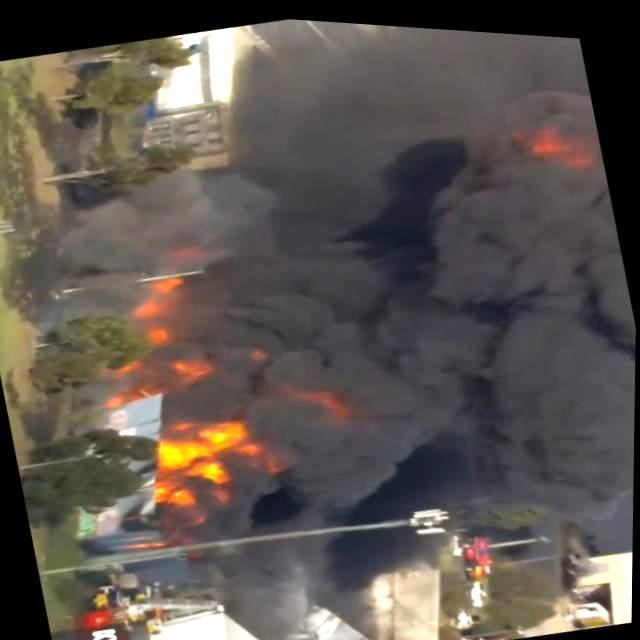fire: (85, 262, 227, 420), (152, 402, 280, 511)
